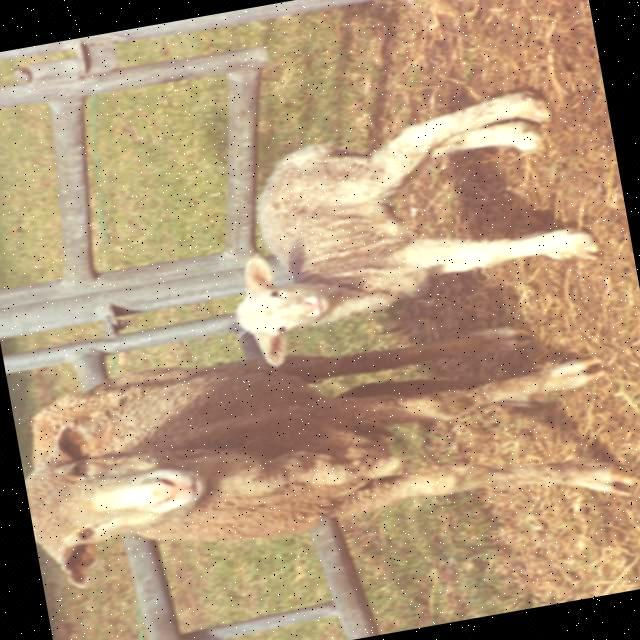sheep: (24, 326, 624, 578), (235, 91, 598, 365)
